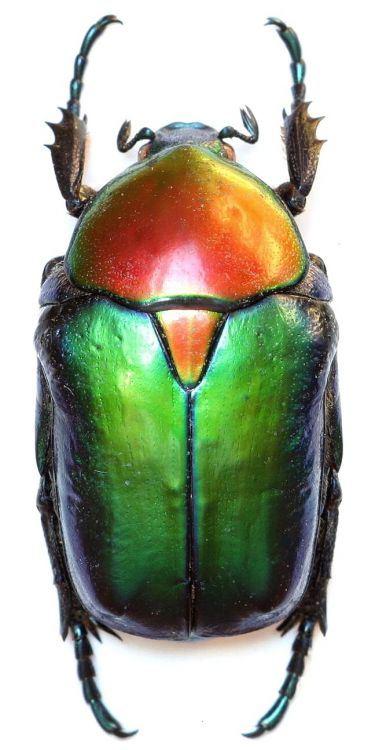Protaetia_speciosa_jousseliniw: (16, 5, 343, 745)
